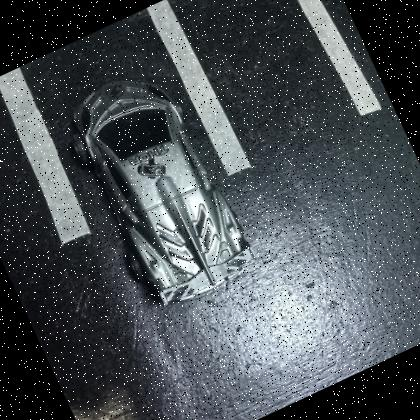Car: (51, 51, 268, 321)
